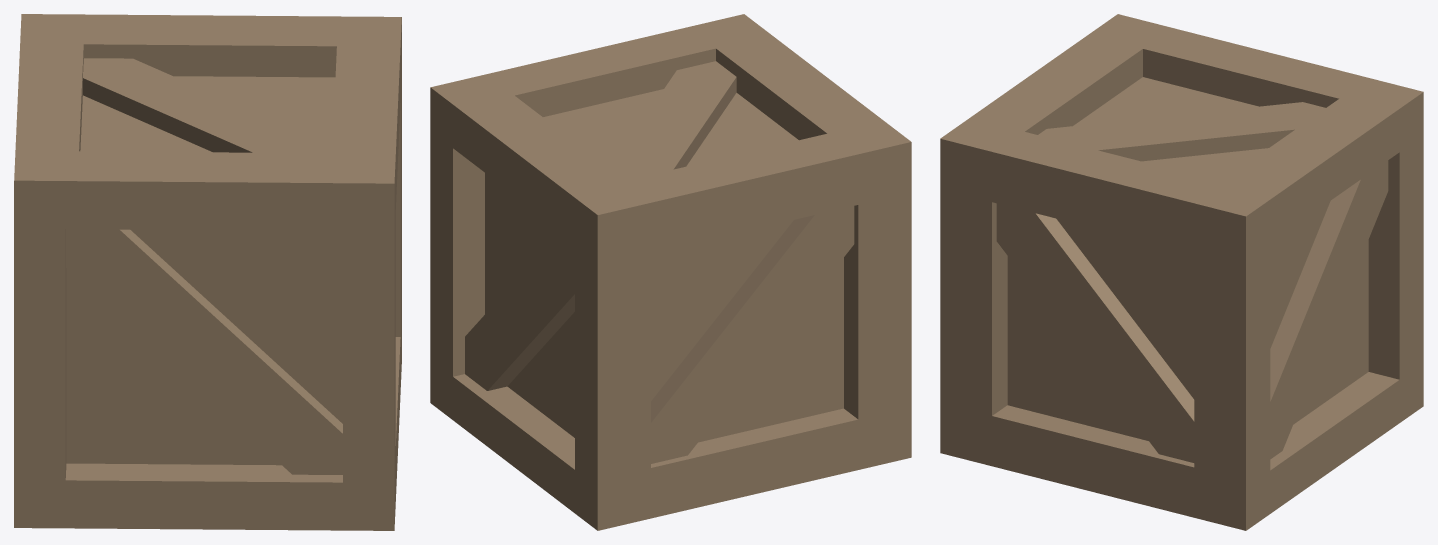
3 renders of one model, left to right at view 1: azimuth 30°, elevation 25°; view 2: azimuth 150°, elevation 25°; view 3: azimuth 270°, elevation 25°, orthographic. The views are drawn at different scales.
Parts seen in each view (by area): view 1: Cube.029; view 2: Cube.029; view 3: Cube.029.
Part boxes in pixels (x1,y1,x2,y2): Cube.029: [14, 14, 401, 530]; Cube.029: [430, 14, 911, 530]; Cube.029: [940, 14, 1423, 530].
Bounding box in the file's own units: 81.94 × 59.32 × 82.67.
